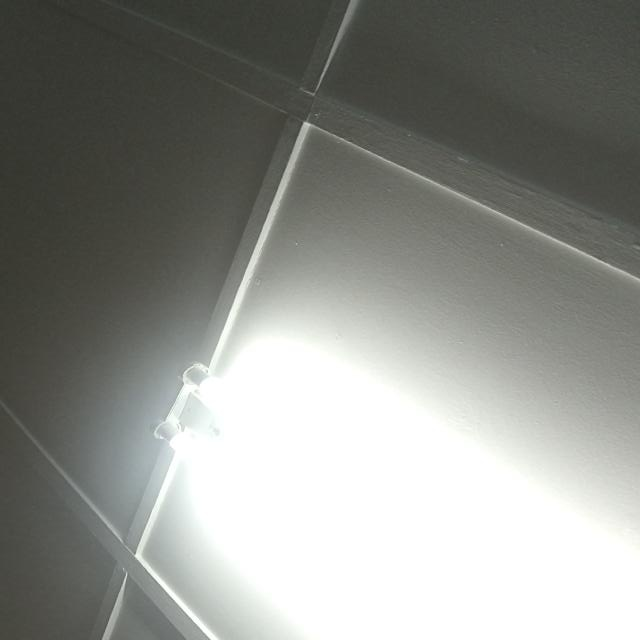fluorescent tube: (139, 314, 640, 640)
